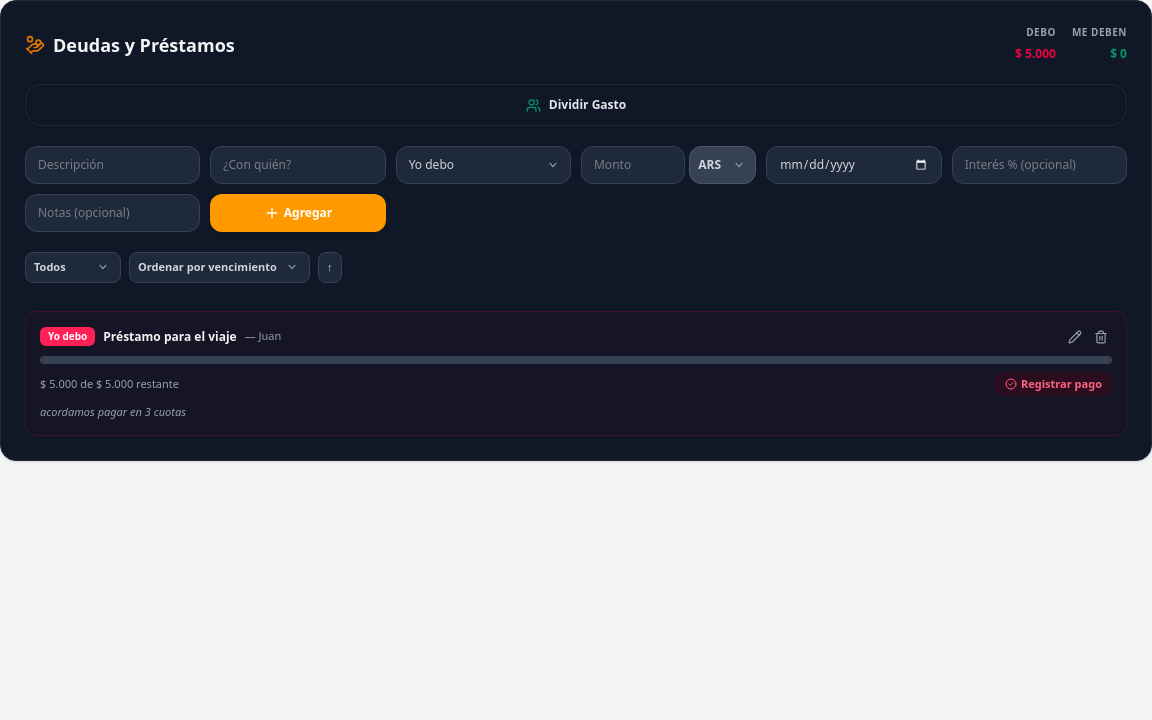
it: DebtsManager — editar deuda (Tanda 9) › en modo offline encole el update con el id de la deuda
Click the button titled "Editar" at (1075, 336), box [1064, 326, 1086, 348]
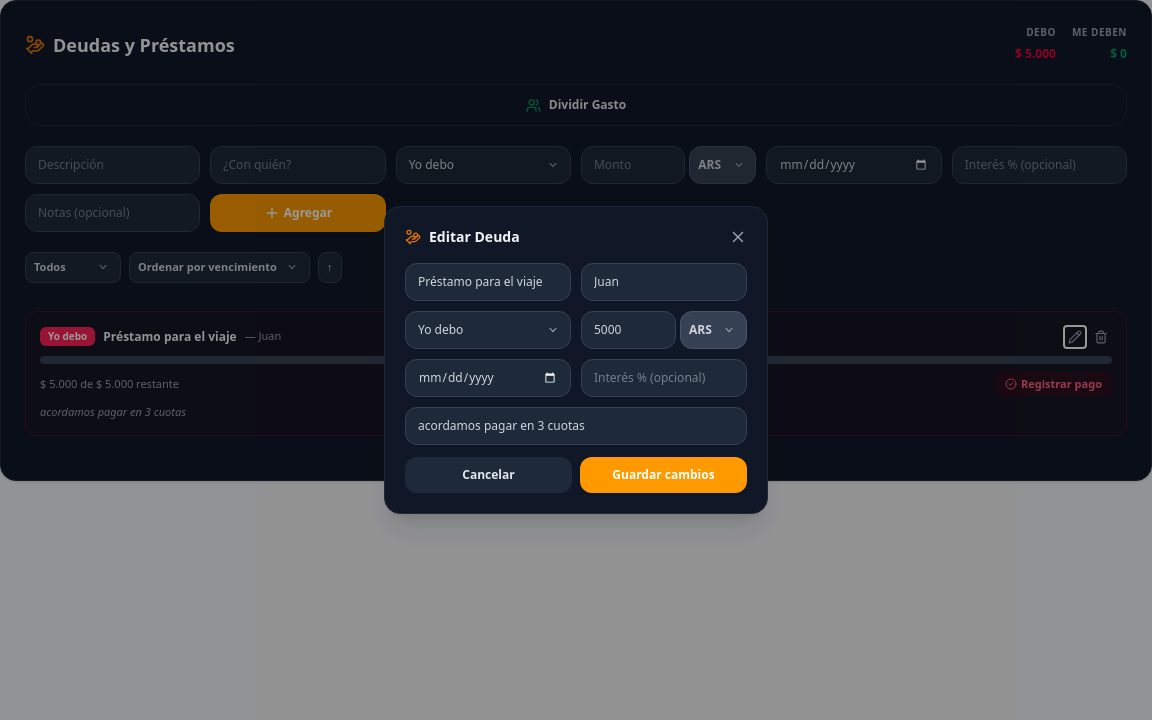
Replace the text in the number field showing "5000" with "8000" at (628, 330), box [581, 311, 676, 349]
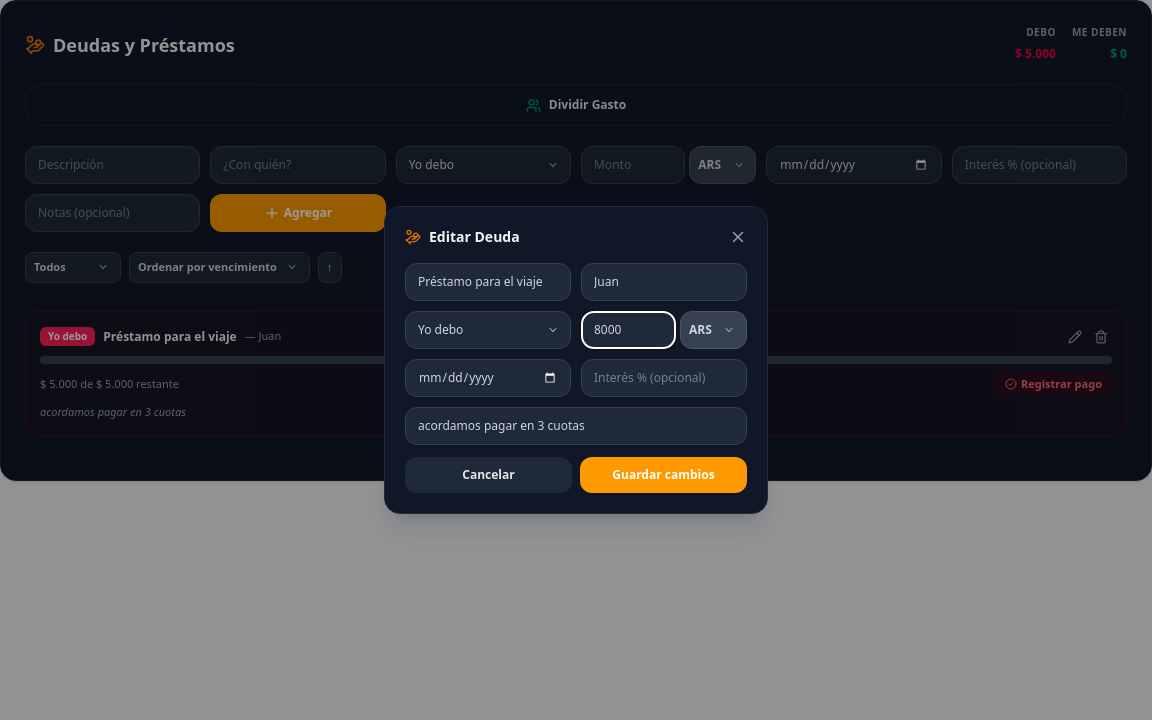
Click the button "Guardar cambios" at (664, 475), box [580, 457, 747, 493]
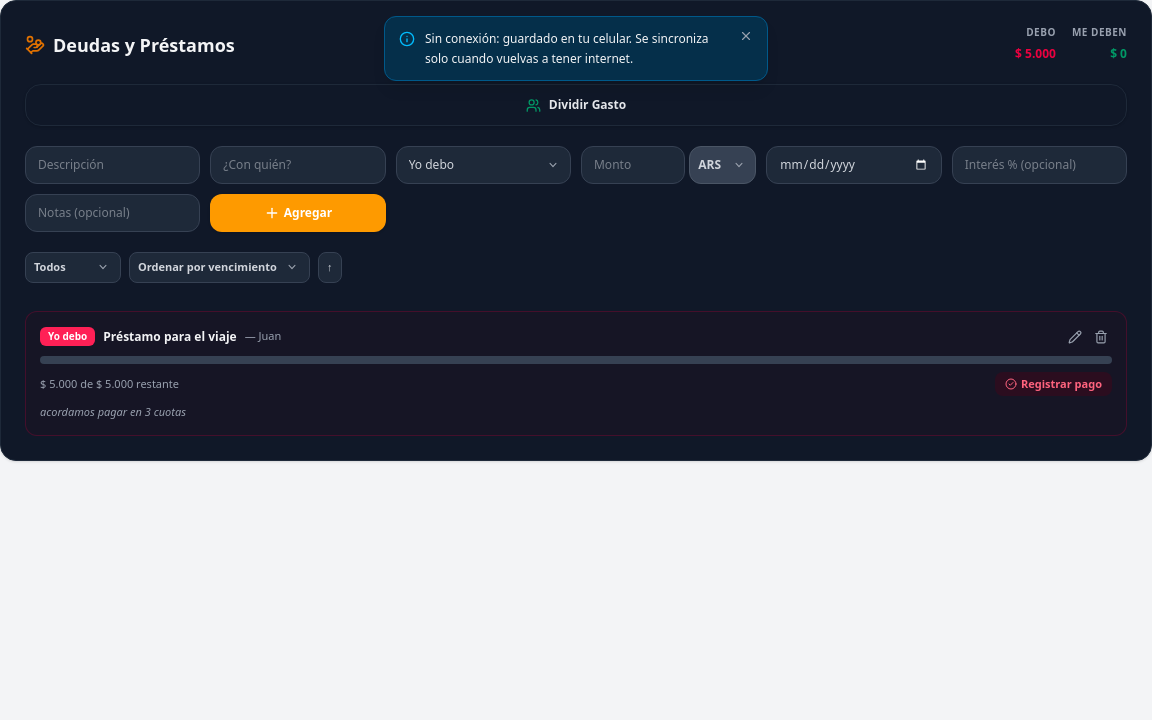
Result: the text "Sin conexión: guardado en tu celular" is shown at [425, 30, 708, 66]
